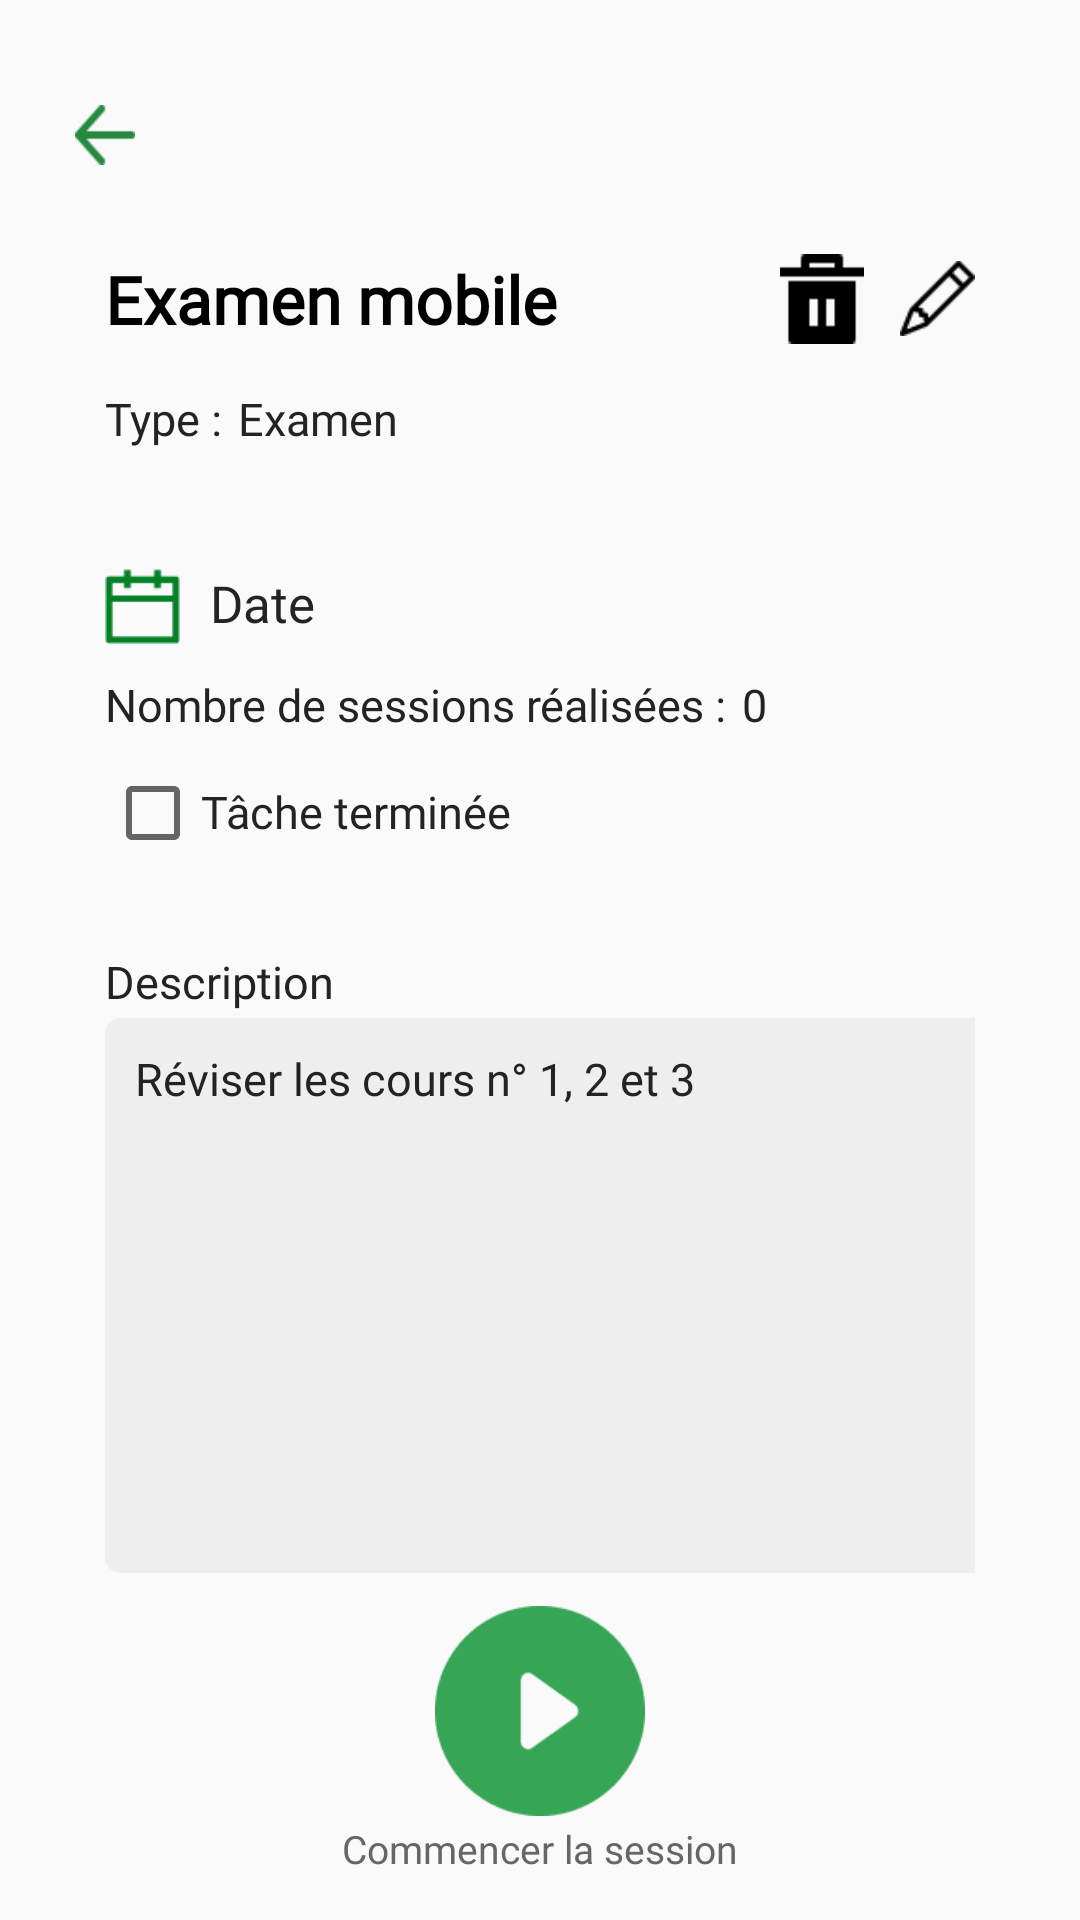

Screen size 1080×1920. Icon name, then its center in pixels as (x=x, y=y):
fleche retour: (x=105, y=135)
mini calendar: (x=142, y=606)
pencil: (x=937, y=298)
trash: (x=822, y=299)
